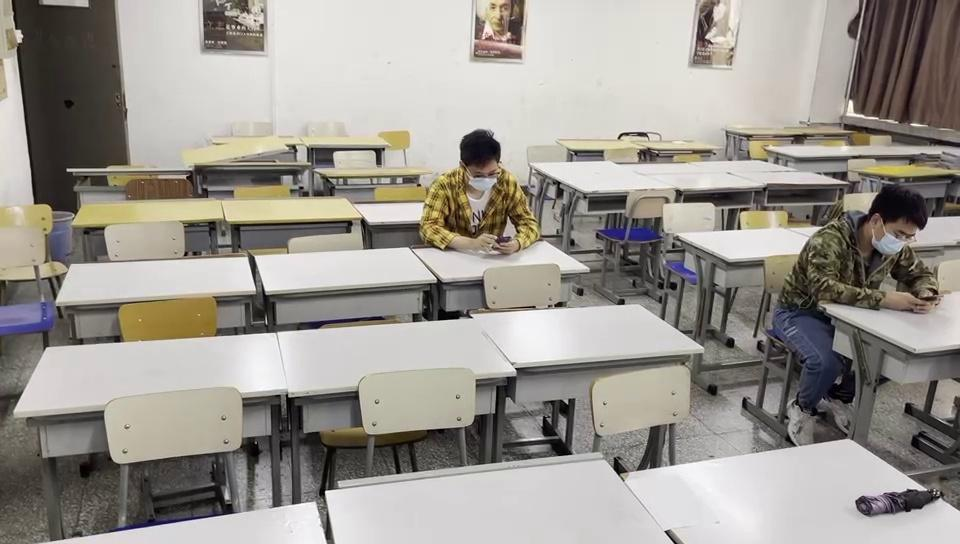phone: (825, 184, 945, 313), (420, 131, 539, 250)
